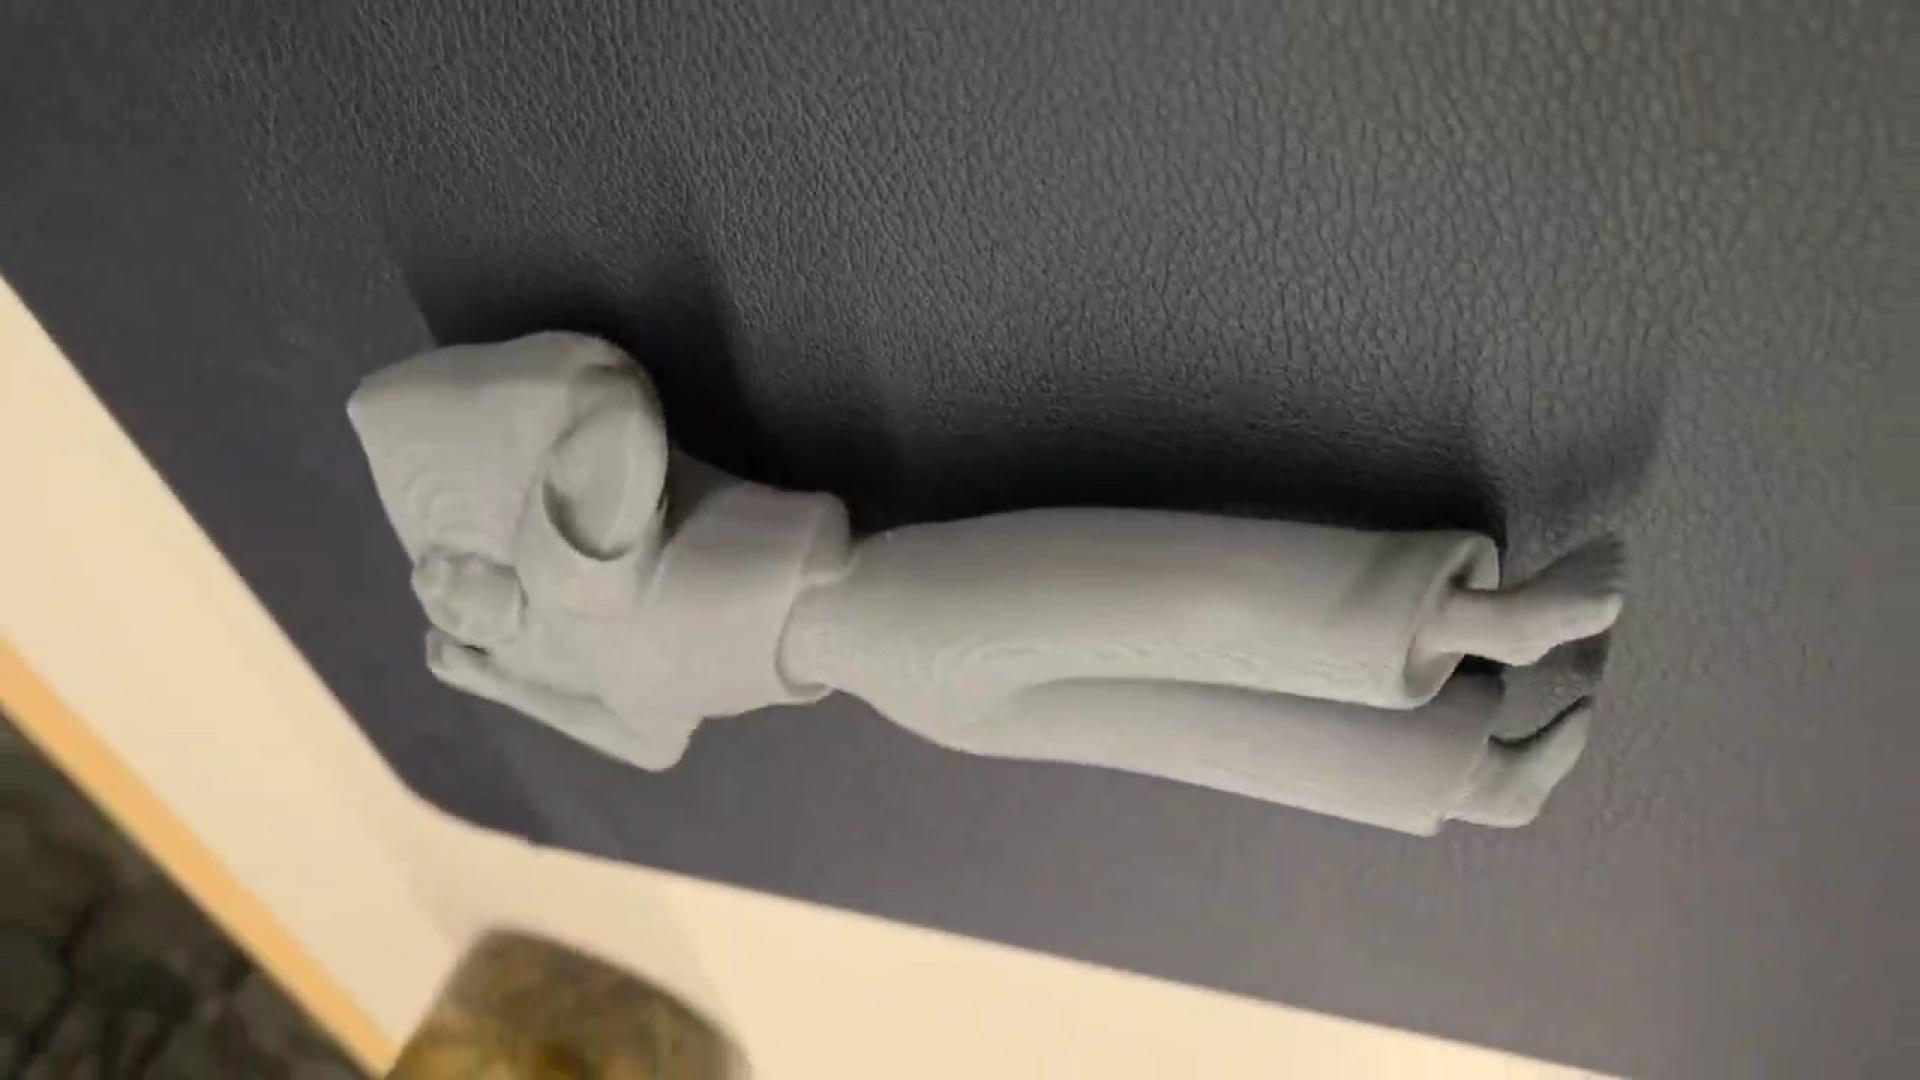Bad-style: (343, 324, 1621, 845)
